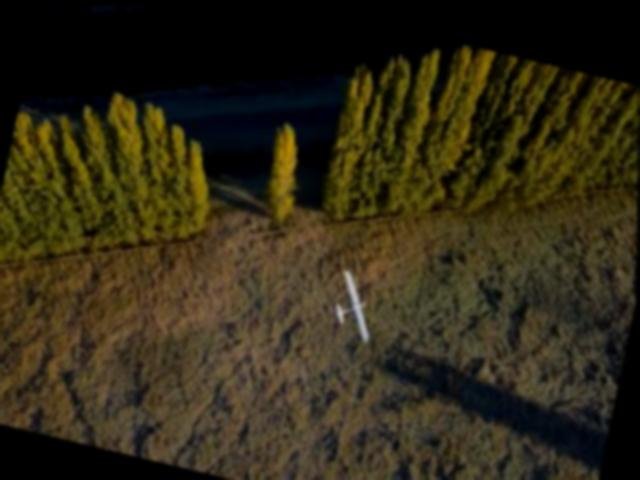uav: (328, 264, 388, 340)
